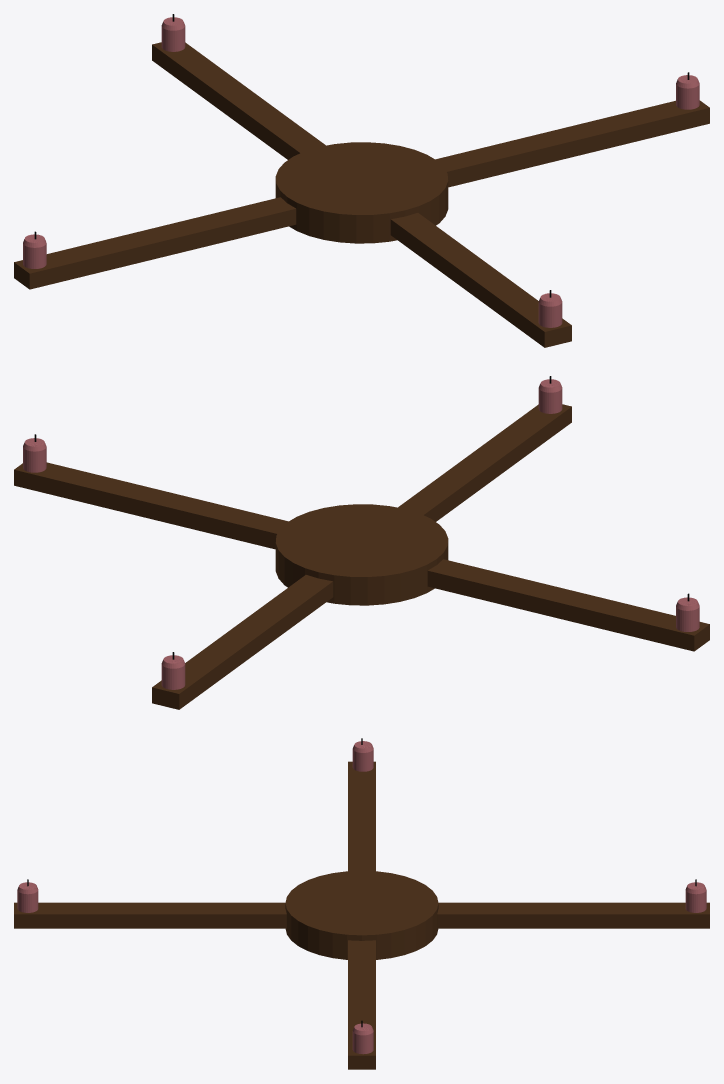
Rendered from quadro.dae.
The picture shows the model from 3 angles, top to bottom: view 1: azimuth 30°, elevation 25°; view 2: azimuth 150°, elevation 25°; view 3: azimuth 270°, elevation 25°; orthographic projection. The views are drawn at different scales.
Visible parts, largest first — view 1: motor1_002; view 2: motor1_002; view 3: motor1_002.
Boxes of the visible parts, x1,y1,x2,y2 form: motor1_002: (14, 14, 709, 347); motor1_002: (14, 376, 709, 709); motor1_002: (14, 738, 709, 1069).
Size of the model in its own units: 10 by 10 by 0.77.
